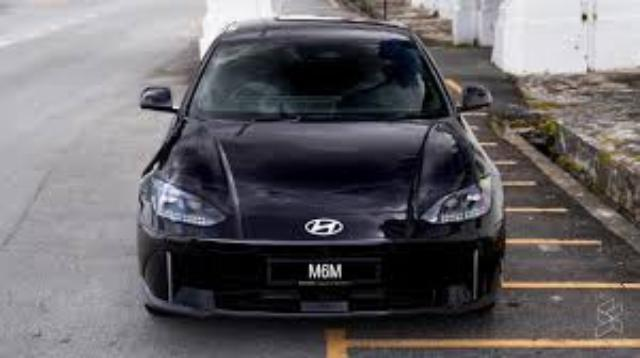License_Plate: (258, 255, 391, 292)
